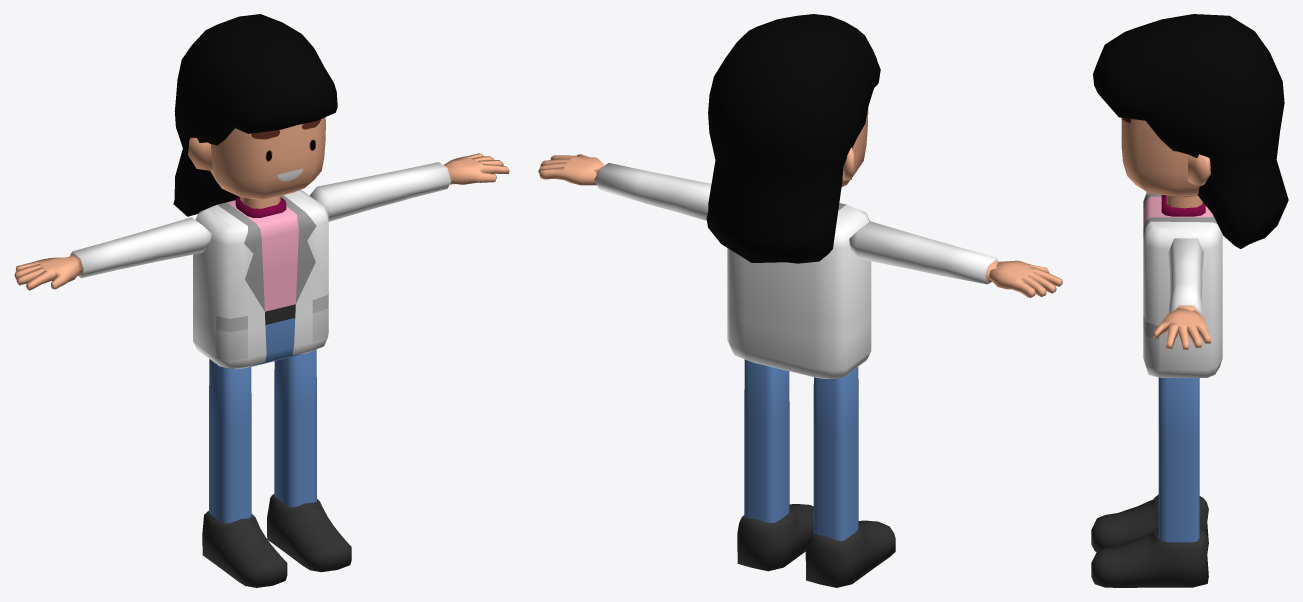
Rendered from NPC_White01_BlackHair02.gltf.
The picture shows the model from 3 angles, left to right: view 1: azimuth 30°, elevation 25°; view 2: azimuth 150°, elevation 25°; view 3: azimuth 270°, elevation 25°; orthographic projection. The views are drawn at different scales.
Parts seen in each view (by area): view 1: NPC_Corpo_White1_BlackHair.002; view 2: NPC_Corpo_White1_BlackHair.002; view 3: NPC_Corpo_White1_BlackHair.002.
Boxes of the visible parts, x1,y1,x2,y2 form: NPC_Corpo_White1_BlackHair.002: (14,14,509,587); NPC_Corpo_White1_BlackHair.002: (538,14,1062,587); NPC_Corpo_White1_BlackHair.002: (1091,14,1288,587).
Bounding box in the file's own units: 2.31 × 2.33 × 0.7777.
1 material, 1 textured.
